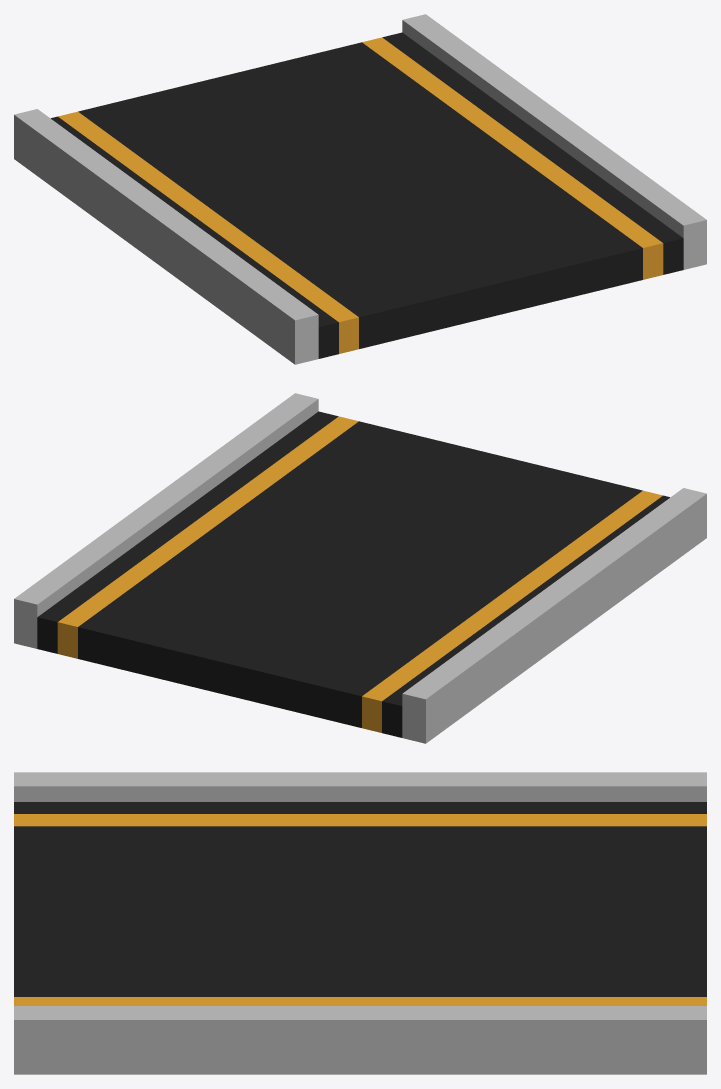
Rendered from Road_Straight.fbx.
3 renders of one model, top to bottom at view 1: azimuth 30°, elevation 25°; view 2: azimuth 150°, elevation 25°; view 3: azimuth 270°, elevation 25°, orthographic. The views are drawn at different scales.
Visible parts, largest first — view 1: Road_Straight; view 2: Road_Straight; view 3: Road_Straight.
Boxes of the visible parts, <box> form: Road_Straight: <box>14,14,706,364</box>; Road_Straight: <box>14,393,706,743</box>; Road_Straight: <box>14,772,706,1074</box>.
Size of the model in its own units: 84.58 by 8.72 by 100.
